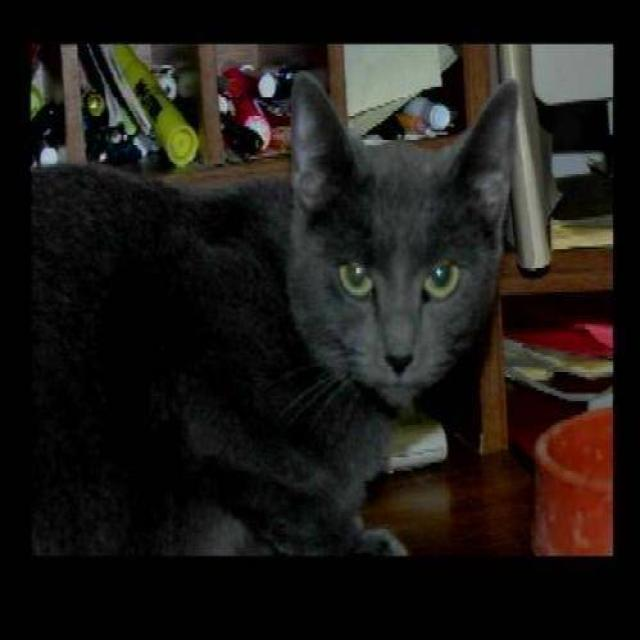cat: (28, 68, 518, 558)
